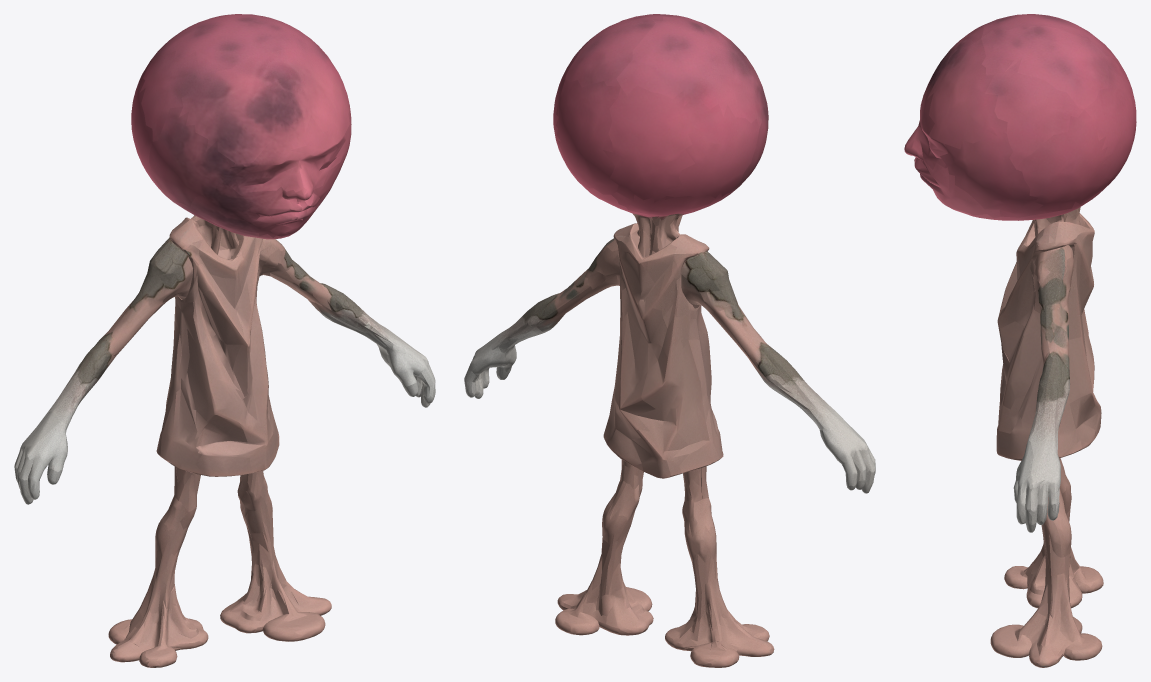
3 views of the same model, side by side, from view 1: azimuth 30°, elevation 25°; view 2: azimuth 150°, elevation 25°; view 3: azimuth 270°, elevation 25° (orthographic). The views are drawn at different scales.
Size of the model in its own units: 1.35 by 1.9 by 0.6663.
1 material, 1 textured.
